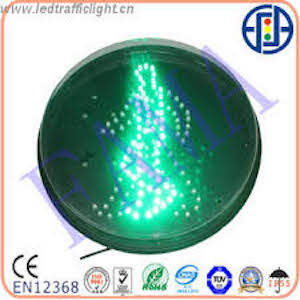green: (106, 60, 201, 224)
